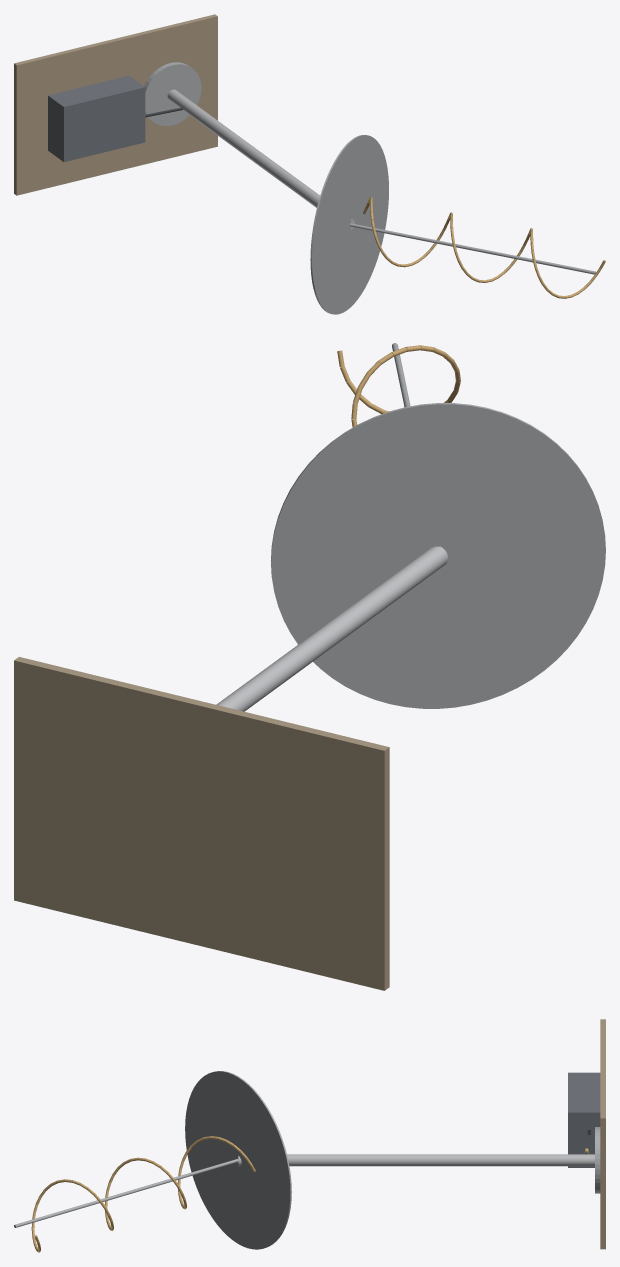
File: ground_station.glb
The picture shows the model from 3 angles, top to bottom: view 1: azimuth 30°, elevation 25°; view 2: azimuth 150°, elevation 25°; view 3: azimuth 270°, elevation 25°; orthographic projection. The views are drawn at different scales.
Parts seen in each view (by area): view 1: table_plate, rcs_antenna_reflector, enc_lid, mast_foot, mast_pole, enc_base, rcs_antenna_helix, rcs_antenna_boom; view 2: table_plate, rcs_antenna_reflector, mast_pole, rcs_antenna_helix; view 3: rcs_antenna_reflector, mast_pole, enc_base, rcs_antenna_helix, table_plate, rcs_antenna_boom, mast_foot.
Part boxes in pixels (x1=…): table_plate: x1=14, y1=14, x2=217, y2=195; rcs_antenna_reflector: x1=310, y1=135, x2=388, y2=314; enc_lid: x1=63, y1=86, x2=145, y2=161; mast_foot: x1=144, y1=62, x2=201, y2=125; mast_pole: x1=167, y1=89, x2=354, y2=229; enc_base: x1=48, y1=75, x2=143, y2=161; rcs_antenna_helix: x1=363, y1=196, x2=605, y2=298; rcs_antenna_boom: x1=350, y1=223, x2=595, y2=274; table_plate: x1=14, y1=657, x2=389, y2=990; rcs_antenna_reflector: x1=271, y1=403, x2=605, y2=708; mast_pole: x1=216, y1=546, x2=447, y2=711; rcs_antenna_helix: x1=337, y1=345, x2=460, y2=427; rcs_antenna_reflector: x1=185, y1=1071, x2=291, y2=1249; mast_pole: x1=238, y1=1154, x2=594, y2=1166; enc_base: x1=569, y1=1072, x2=600, y2=1167; rcs_antenna_helix: x1=31, y1=1136, x2=255, y2=1252; table_plate: x1=600, y1=1019, x2=605, y2=1249; rcs_antenna_boom: x1=14, y1=1159, x2=238, y2=1227; mast_foot: x1=595, y1=1127, x2=600, y2=1193.
Size of the model in its own units: 644 by 330 by 1063.
